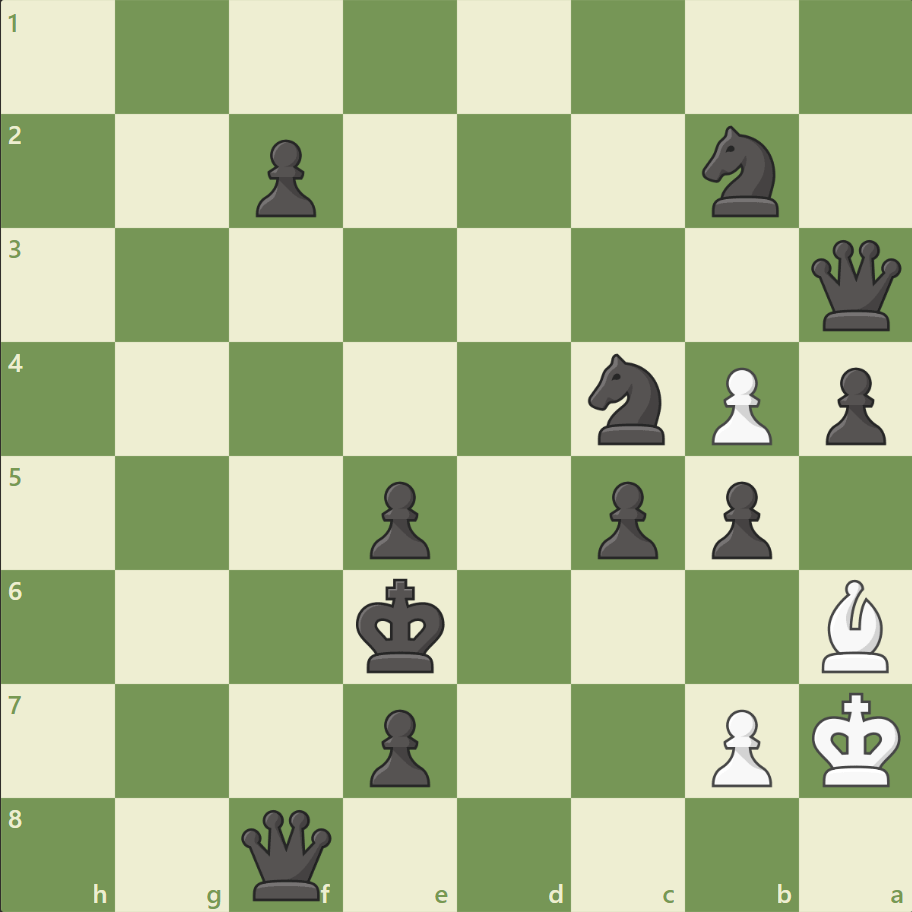B: (812, 574, 896, 676)
K: (806, 685, 906, 793)
P: (701, 700, 776, 791), (701, 359, 776, 450)
k: (351, 571, 451, 679)
n: (579, 348, 676, 450), (692, 121, 789, 223)
p: (701, 473, 776, 564), (247, 132, 322, 223), (361, 700, 435, 791), (588, 473, 662, 564), (361, 473, 435, 564), (815, 359, 889, 450)
q: (237, 804, 336, 903), (805, 236, 904, 335)
